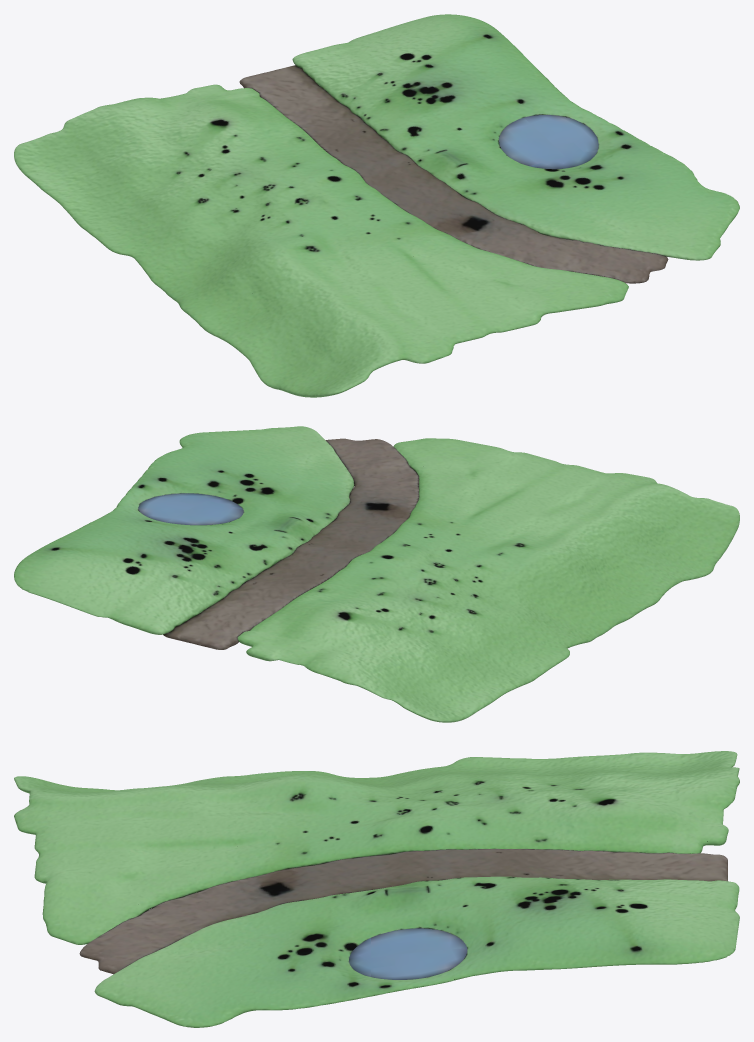
Rendered from env.glb.
3 views of the same model, one above another, from view 1: azimuth 30°, elevation 25°; view 2: azimuth 150°, elevation 25°; view 3: azimuth 270°, elevation 25° (orthographic). The views are drawn at different scales.
Visible parts, largest first — view 1: Mball.026, street, darya; view 2: Mball.026, street, darya; view 3: Mball.026, street, darya.
Boxes of the visible parts, bbox=[...] form: Mball.026: bbox=[14, 14, 739, 397]; street: bbox=[239, 65, 668, 283]; darya: bbox=[499, 115, 598, 169]; Mball.026: bbox=[14, 426, 739, 722]; street: bbox=[163, 438, 419, 649]; darya: bbox=[138, 493, 243, 525]; Mball.026: bbox=[14, 751, 739, 1027]; street: bbox=[79, 849, 727, 974]; darya: bbox=[349, 928, 467, 979].
Size of the model in its own units: 170 by 26.37 by 183.
3 materials, 3 textured.
